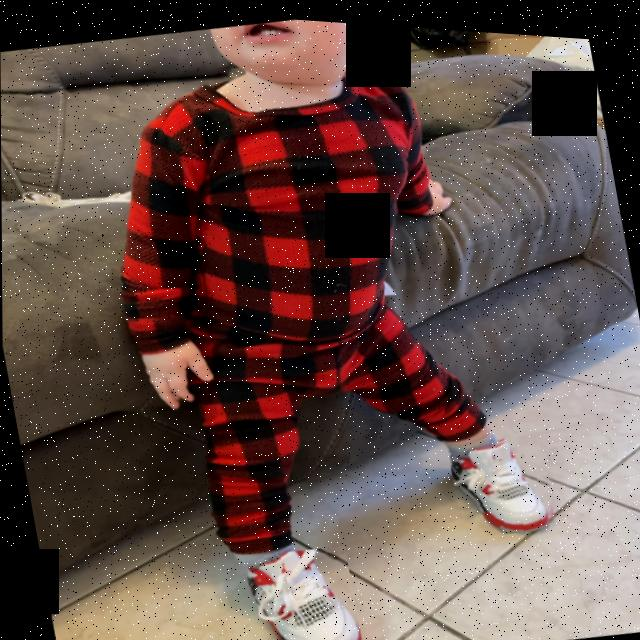shoe: (236, 534, 364, 640), (445, 420, 560, 537)
